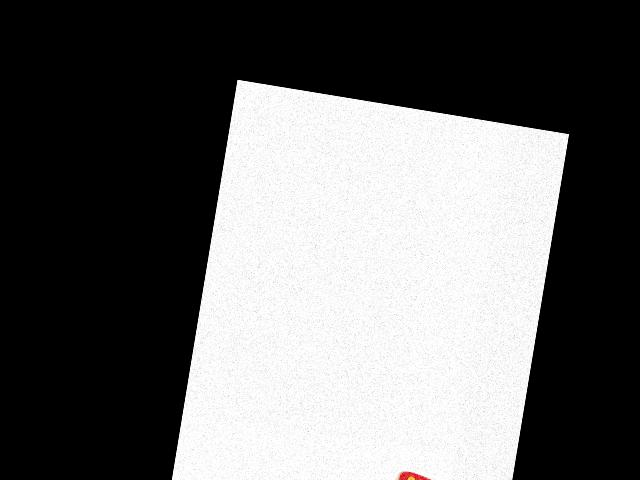cheese: (389, 469, 449, 480)
